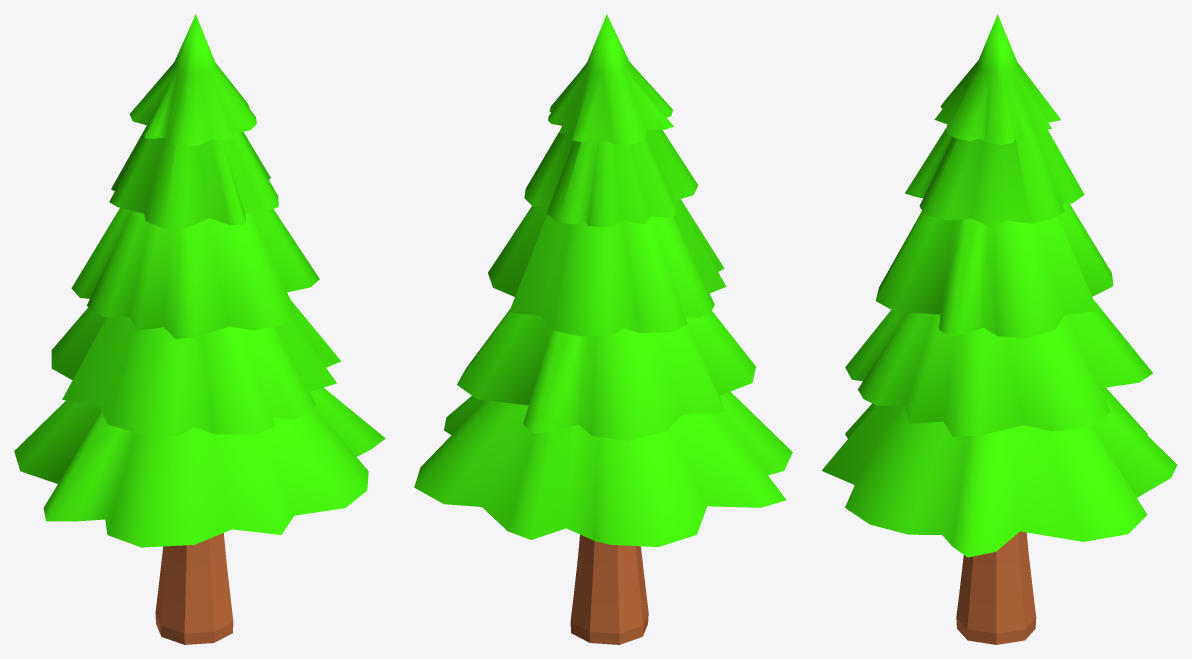
Rendered from Tress 1.fbx.
The picture shows the model from 3 angles, left to right: view 1: azimuth 30°, elevation 25°; view 2: azimuth 150°, elevation 25°; view 3: azimuth 270°, elevation 25°; orthographic projection.
Parts seen in each view (by area): view 1: Circle, Circle.001, Circle.002, Circle.003, Circle.004, Tronco; view 2: Circle, Circle.001, Circle.002, Circle.003, Circle.004, Tronco; view 3: Circle, Circle.001, Circle.002, Circle.003, Circle.004, Tronco.
Part boxes in pixels (x1,y1,x2,y2): Circle: (14, 387, 385, 547); Circle.001: (51, 300, 340, 436); Circle.002: (71, 208, 319, 338); Circle.003: (109, 125, 278, 228); Circle.004: (129, 14, 256, 146); Tronco: (155, 533, 233, 644); Circle: (414, 391, 792, 546); Circle.001: (457, 309, 755, 440); Circle.002: (488, 199, 726, 336); Circle.003: (524, 129, 698, 227); Circle.004: (548, 14, 673, 144); Tronco: (570, 534, 648, 644); Circle: (821, 387, 1177, 557); Circle.001: (845, 299, 1153, 436); Circle.002: (875, 204, 1113, 338); Circle.003: (905, 127, 1084, 226); Circle.004: (934, 14, 1060, 144); Tronco: (956, 531, 1036, 644).
Size of the model in its own units: 225 by 390 by 204.
